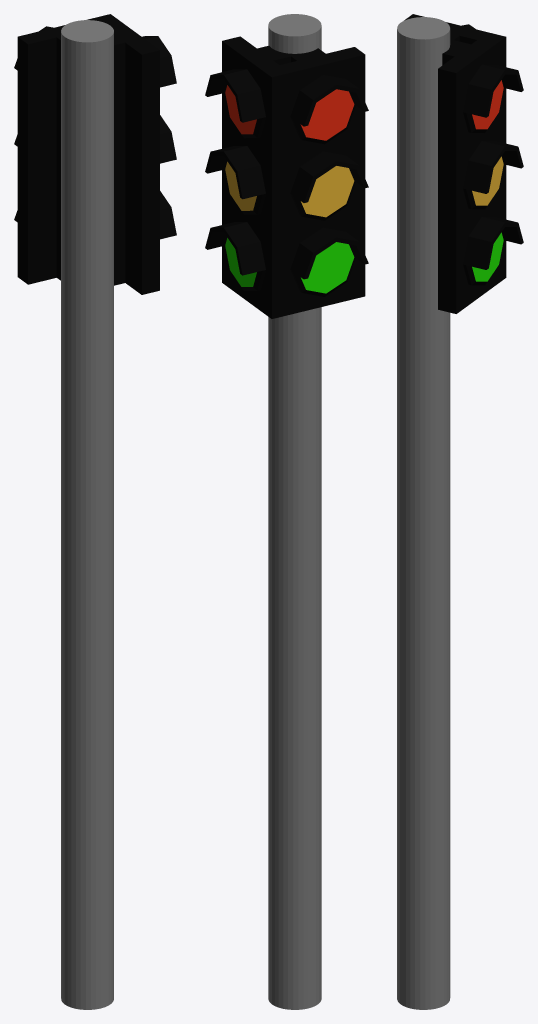
Rendered from redlight_twoways.fbx.
The picture shows the model from 3 angles, left to right: view 1: azimuth 30°, elevation 25°; view 2: azimuth 210°, elevation 25°; view 3: azimuth 330°, elevation 25°; orthographic projection.
Visible parts, largest first — view 1: double traffic light; view 2: double traffic light; view 3: double traffic light.
Boxes of the visible parts, x1,y1,x2,y2 form: double traffic light: [14, 14, 176, 1009]; double traffic light: [205, 14, 368, 1009]; double traffic light: [397, 14, 523, 1009].
Bounding box in the file's own units: 130 × 1037 × 123.
